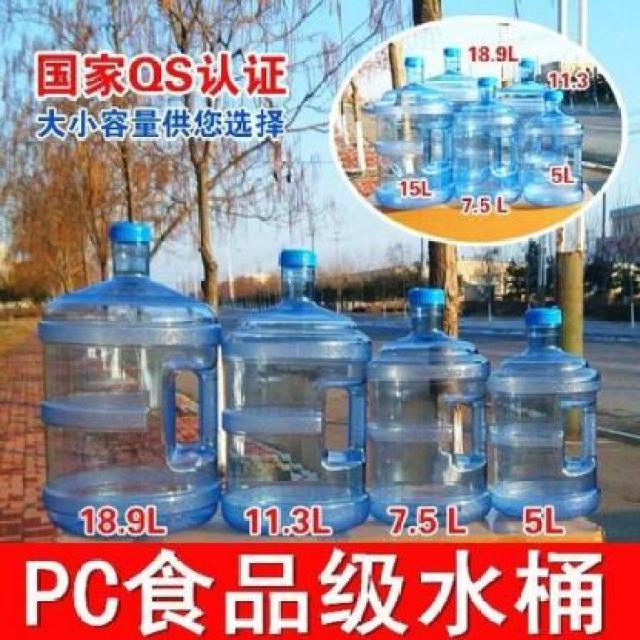coolerbottle: (36, 220, 226, 538), (220, 248, 379, 543), (364, 284, 494, 536), (483, 305, 605, 520)
